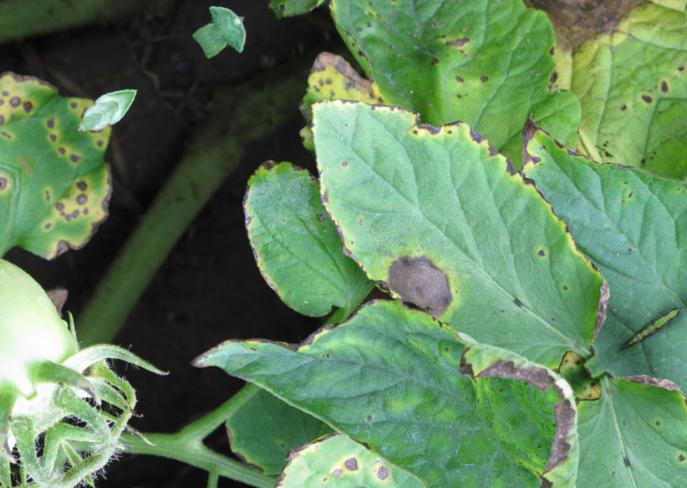Tomato Early blight leaf: (268, 36, 638, 441), (180, 177, 605, 488), (283, 0, 596, 210)
